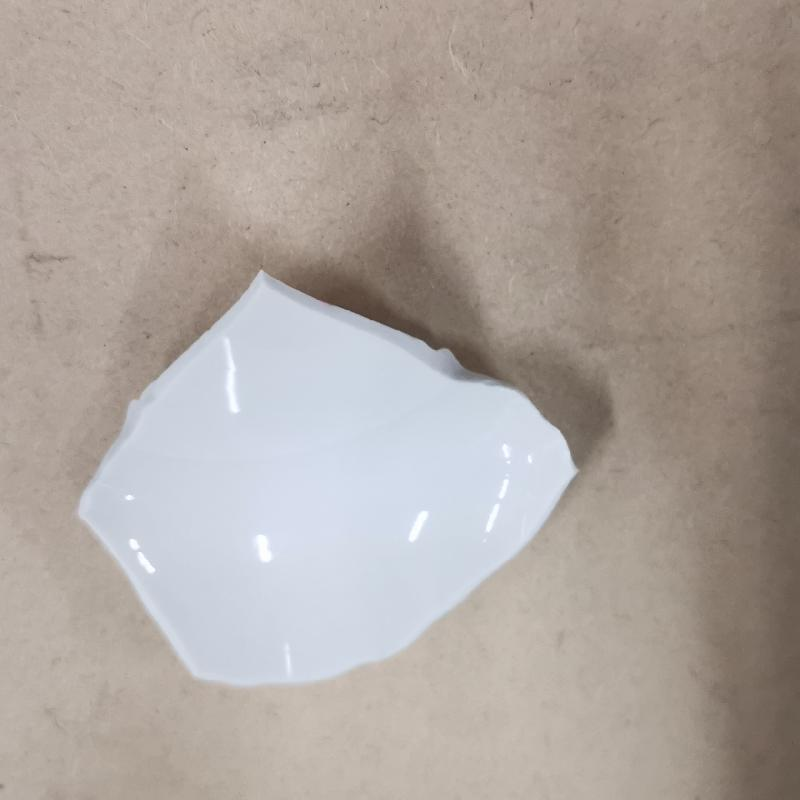ceram: (75, 268, 580, 688)
